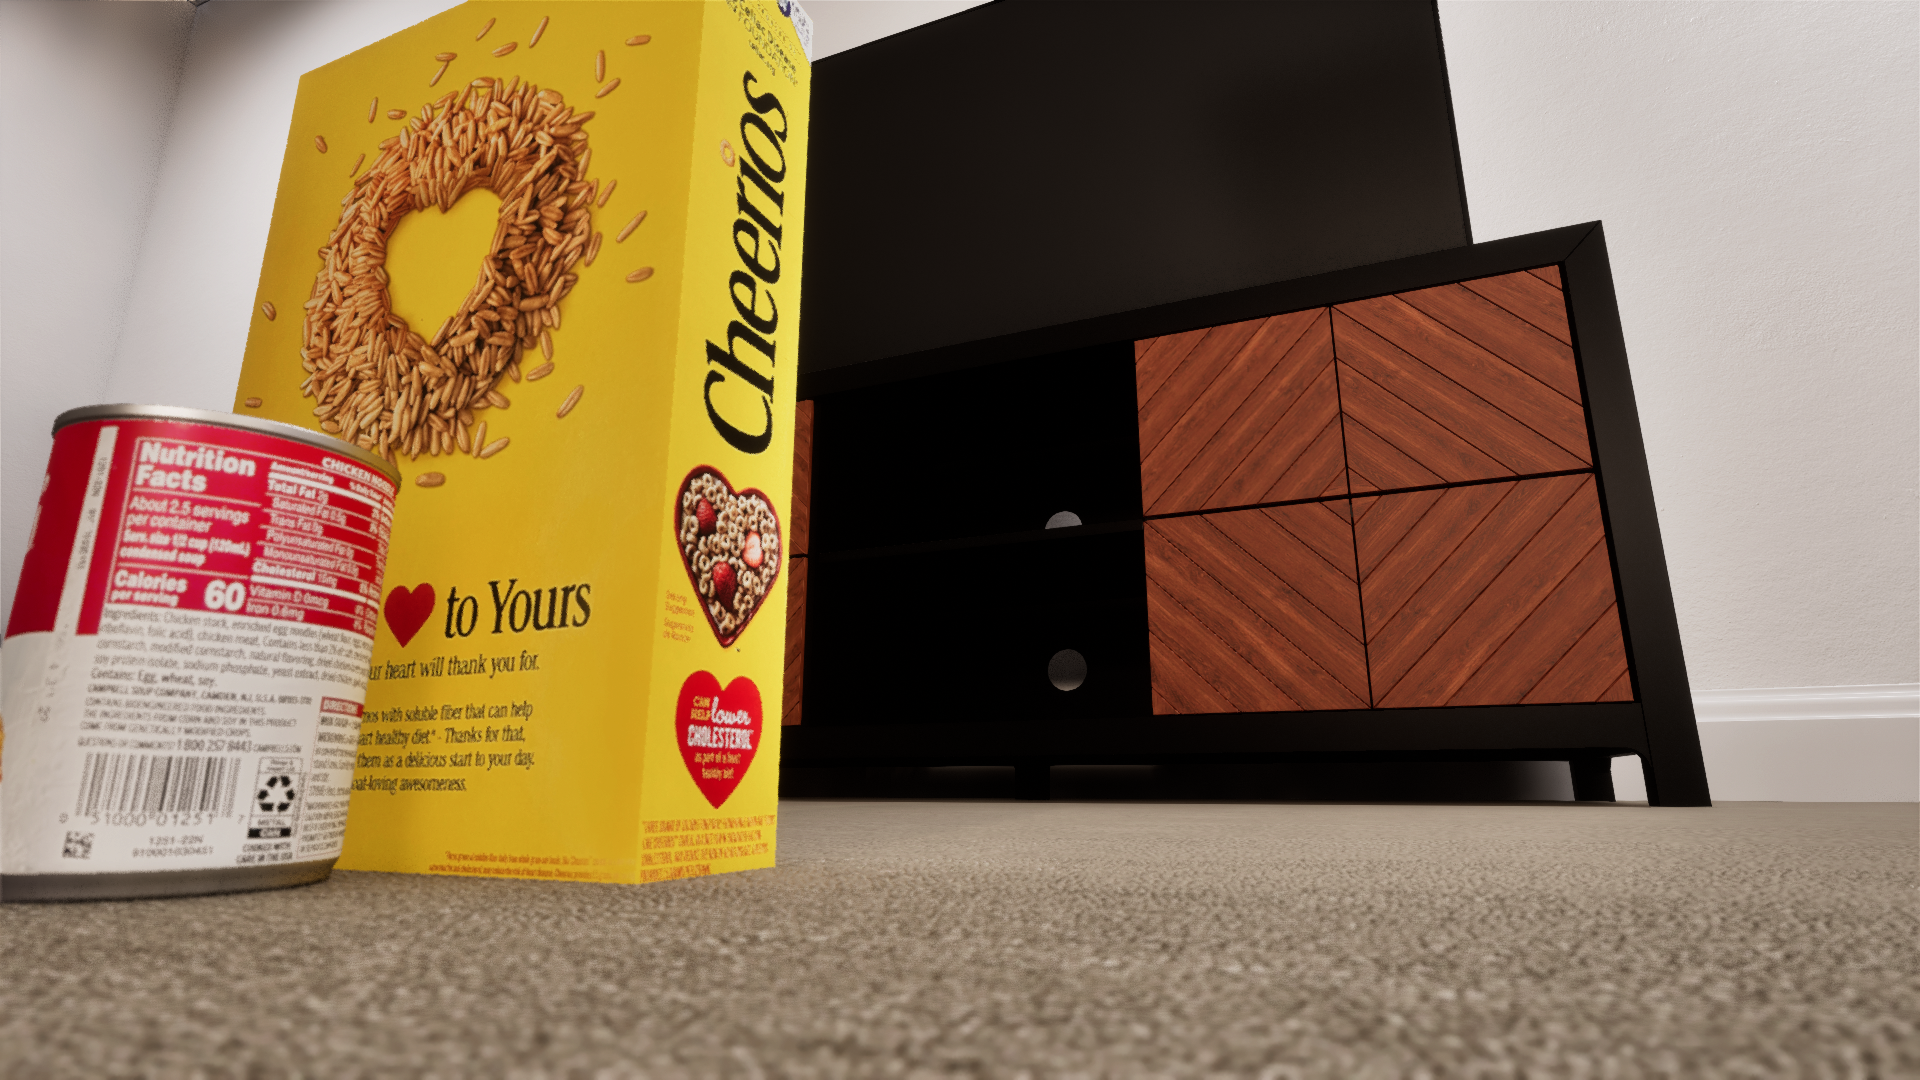cheerios: (232, 0, 814, 884)
soup: (0, 404, 402, 903)
